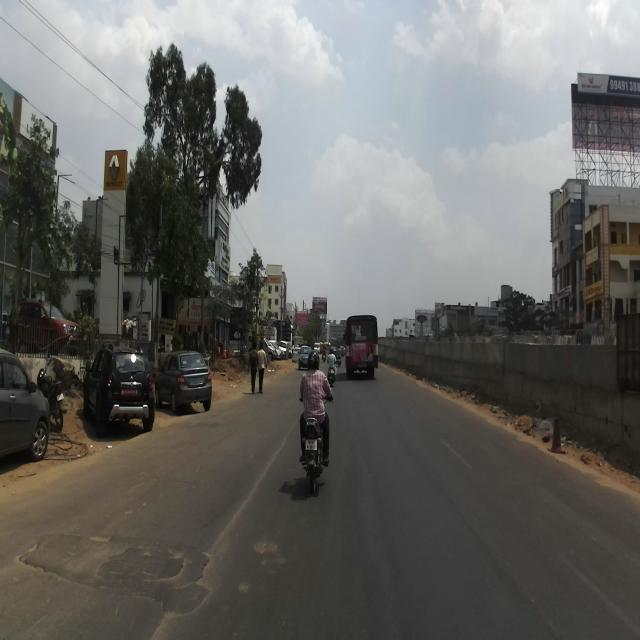car: (83, 338, 155, 434), (152, 348, 212, 413)
motorcycle: (299, 394, 333, 492), (36, 356, 66, 436)
